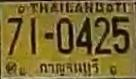0: (56, 17, 73, 53)
1: (30, 17, 35, 54)
2: (94, 16, 110, 53)
4: (76, 17, 91, 54)
5: (112, 16, 130, 53)
7: (7, 17, 22, 55)
KRI: (39, 58, 100, 78)
